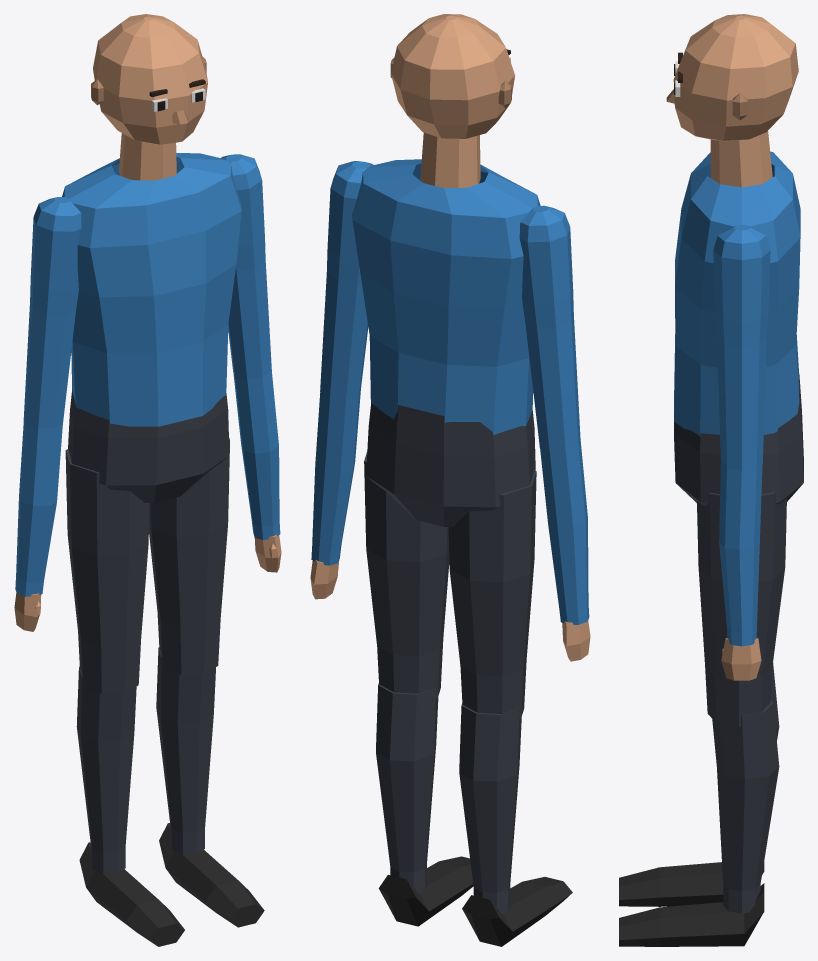
The model's file is ado_h_moyen.glb.
The picture shows the model from 3 angles, left to right: view 1: azimuth 30°, elevation 25°; view 2: azimuth 150°, elevation 25°; view 3: azimuth 270°, elevation 25°; orthographic projection. The views are drawn at different scales.
Visible parts, largest first — view 1: torse, jambe_d, tete, jambe_g, tibia_d, tibia_g, bassin, bras_d, bras_g, avant_bras_d, avant_bras_g; view 2: torse, jambe_d, tete, bassin, tibia_d, jambe_g, tibia_g, bras_d, bras_g, avant_bras_d, avant_bras_g; view 3: torse, tete, tibia_g, bras_g, jambe_g, avant_bras_g, bassin, tibia_d.
Part boxes in pixels (x1=…): torse: x1=62, y1=153, x2=241, y2=426; jambe_d: x1=65, y1=448, x2=149, y2=694; tete: x1=91, y1=14, x2=207, y2=180; jambe_g: x1=149, y1=437, x2=229, y2=674; tibia_d: x1=76, y1=666, x2=184, y2=946; tibia_g: x1=156, y1=647, x2=264, y2=927; bassin: x1=68, y1=390, x2=229, y2=503; bras_d: x1=23, y1=197, x2=81, y2=429; bras_g: x1=221, y1=154, x2=271, y2=380; avant_bras_d: x1=14, y1=422, x2=62, y2=631; avant_bras_g: x1=233, y1=371, x2=281, y2=572; torse: x1=352, y1=159, x2=540, y2=434; jambe_d: x1=448, y1=470, x2=536, y2=719; tete: x1=390, y1=14, x2=514, y2=188; bassin: x1=366, y1=403, x2=535, y2=526; tibia_d: x1=459, y1=703, x2=572, y2=946; jambe_g: x1=364, y1=451, x2=449, y2=698; tibia_g: x1=376, y1=683, x2=473, y2=926; bras_d: x1=519, y1=205, x2=580, y2=451; bras_g: x1=320, y1=161, x2=373, y2=400; avant_bras_d: x1=540, y1=439, x2=590, y2=661; avant_bras_g: x1=310, y1=389, x2=360, y2=599; torse: x1=674, y1=151, x2=800, y2=436; tete: x1=666, y1=14, x2=798, y2=187; tibia_g: x1=619, y1=700, x2=779, y2=946; bras_g: x1=713, y1=225, x2=770, y2=471; jambe_g: x1=697, y1=492, x2=786, y2=726; avant_bras_g: x1=719, y1=461, x2=762, y2=680; bassin: x1=674, y1=373, x2=803, y2=505; tibia_d: x1=619, y1=663, x2=779, y2=906.
Size of the model in its own units: 0.5144 by 1.64 by 0.3036.
1 material, 1 textured.
